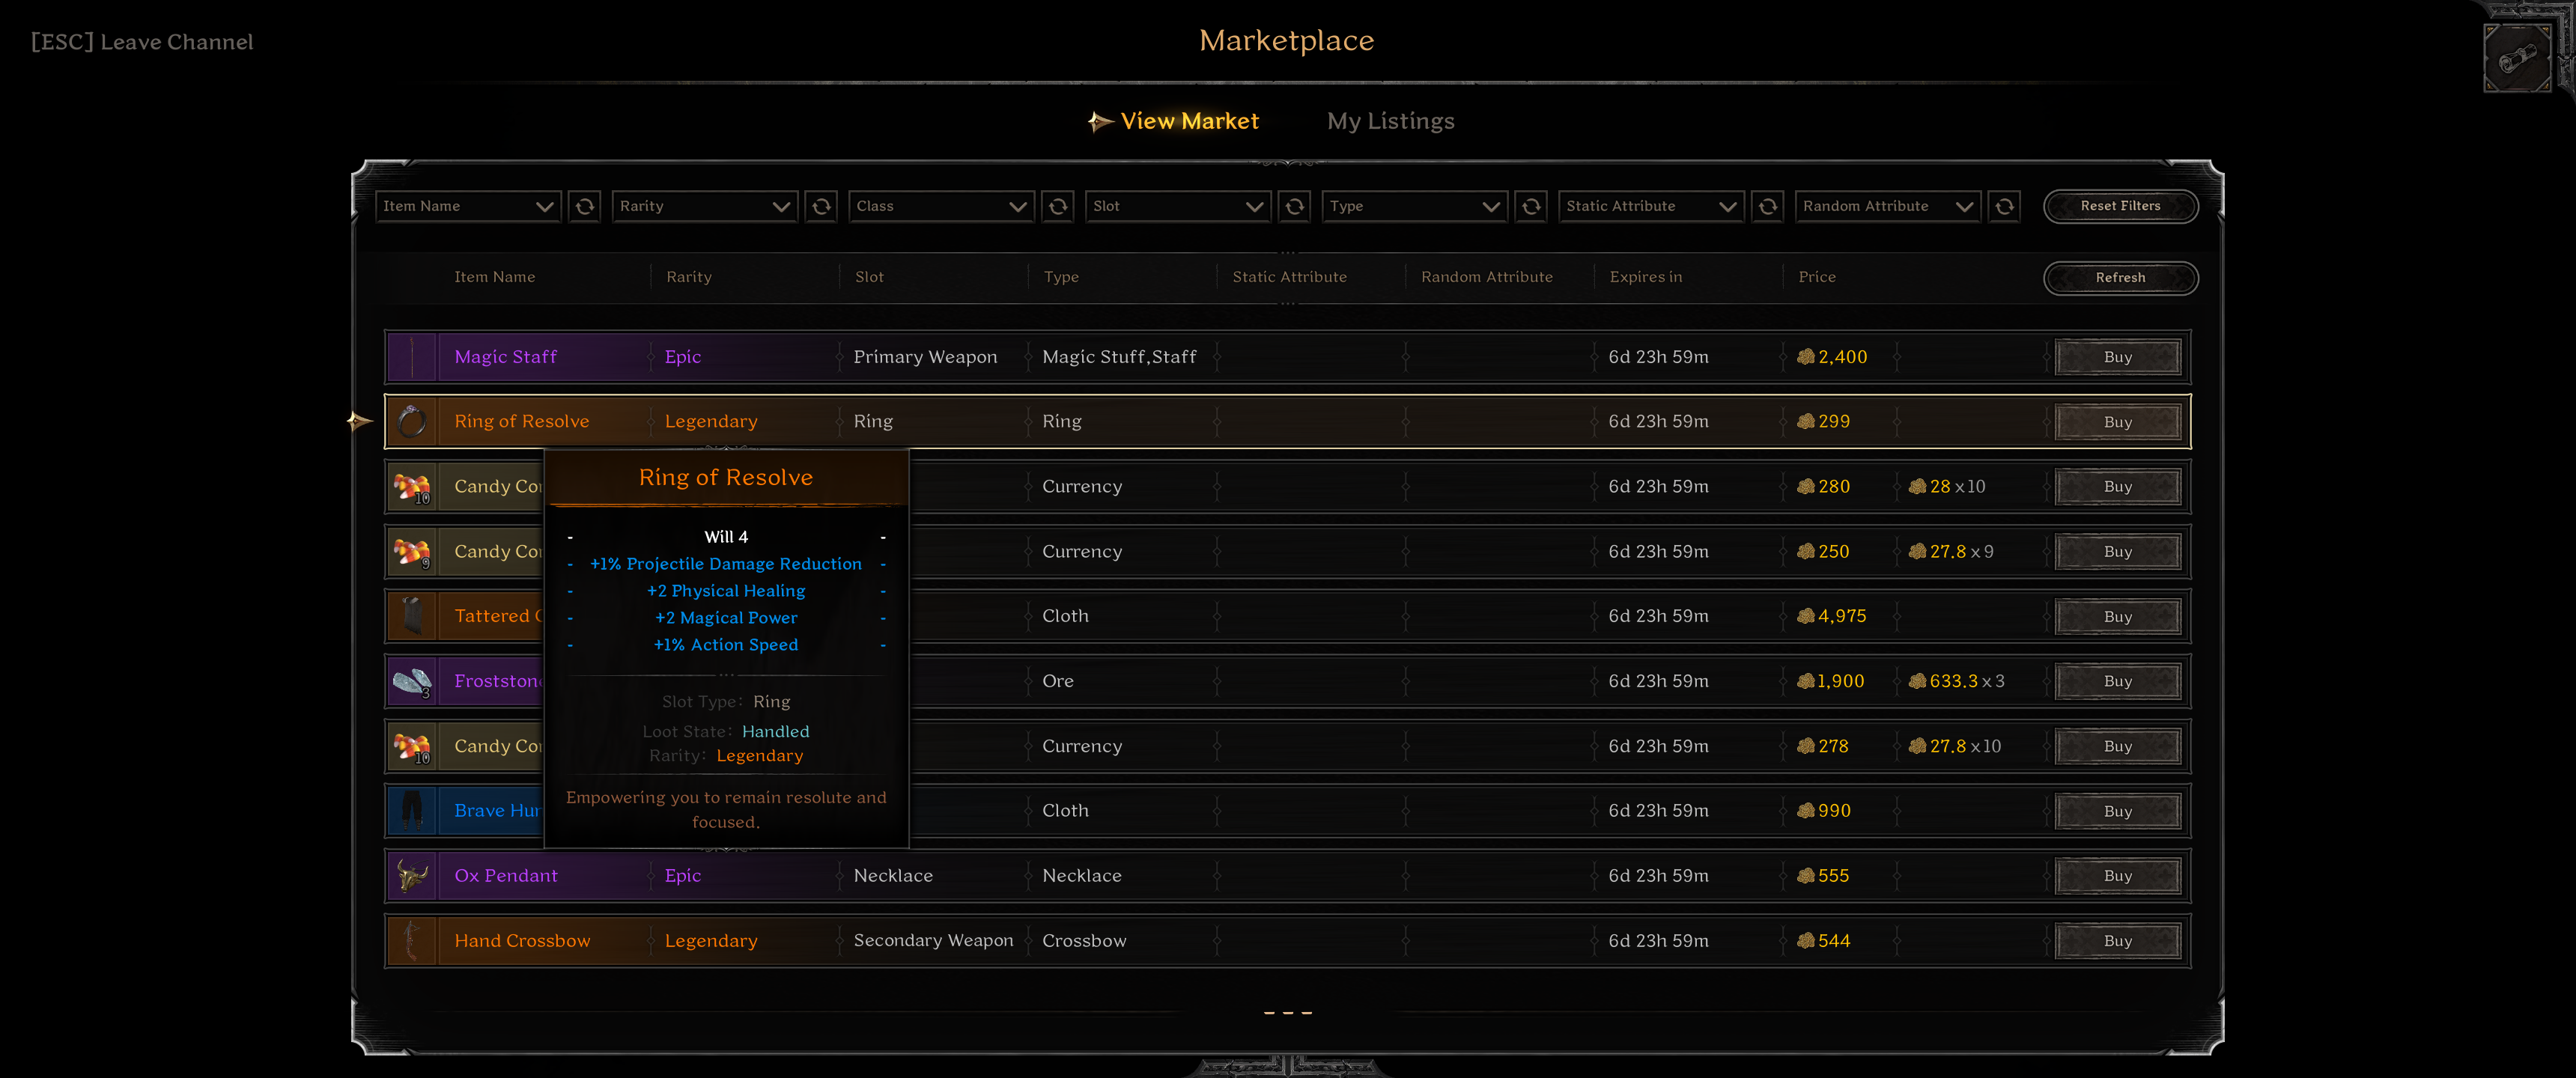Tooltip: (542, 447, 912, 851)
